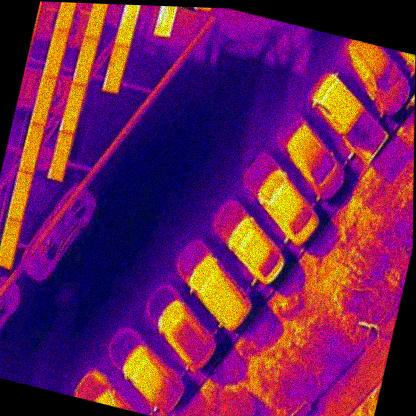Diode: (102, 42, 129, 94), (114, 4, 140, 48), (153, 6, 178, 38)
Normal: (72, 35, 99, 89), (46, 129, 73, 183), (42, 27, 69, 80), (29, 74, 56, 127), (60, 81, 86, 135), (6, 169, 32, 223), (18, 121, 44, 174), (0, 219, 21, 269), (84, 3, 110, 41), (53, 2, 80, 31)
